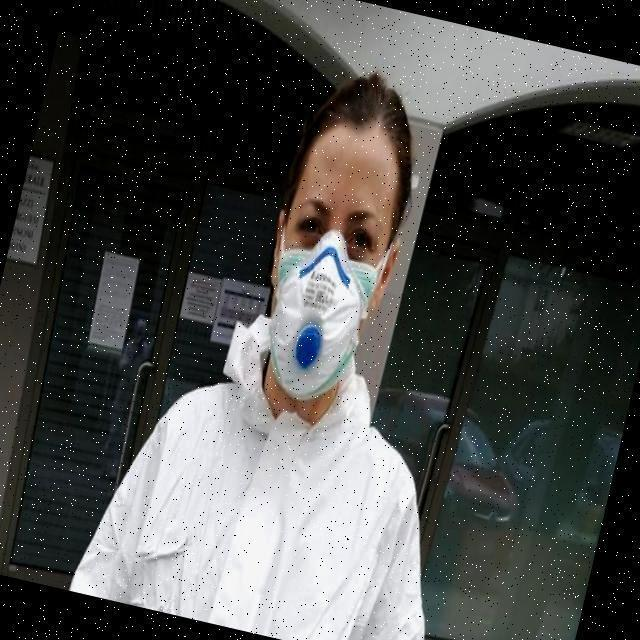mask: (274, 247, 392, 389)
no_gloves: (306, 52, 443, 196)
